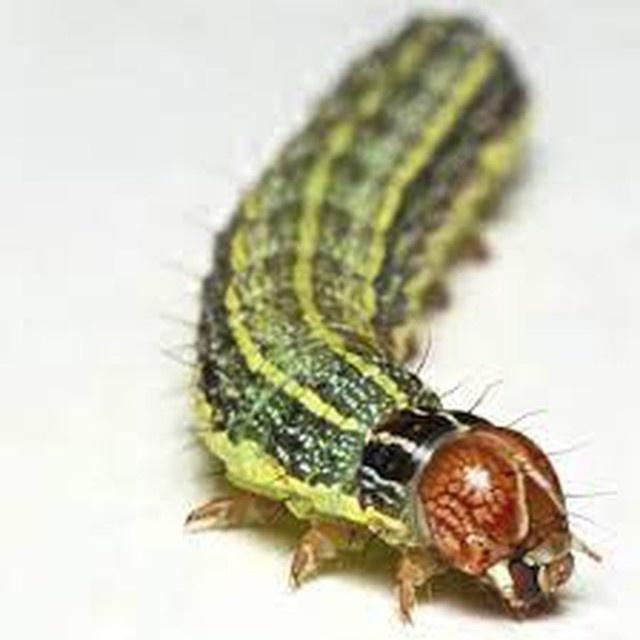gusano_cogollero: (208, 0, 578, 602)
